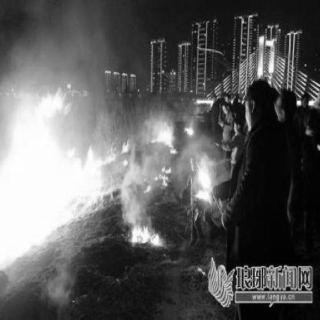Fire: (144, 117, 180, 157), (108, 132, 134, 174)
